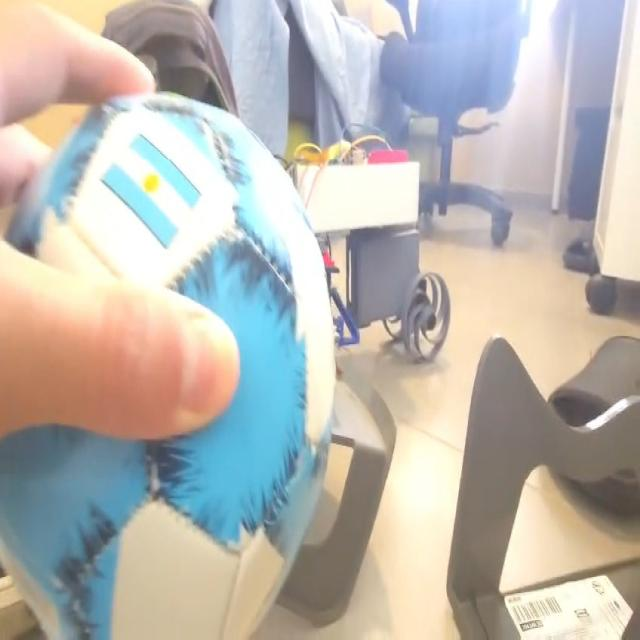Robot: (295, 147, 452, 367)
